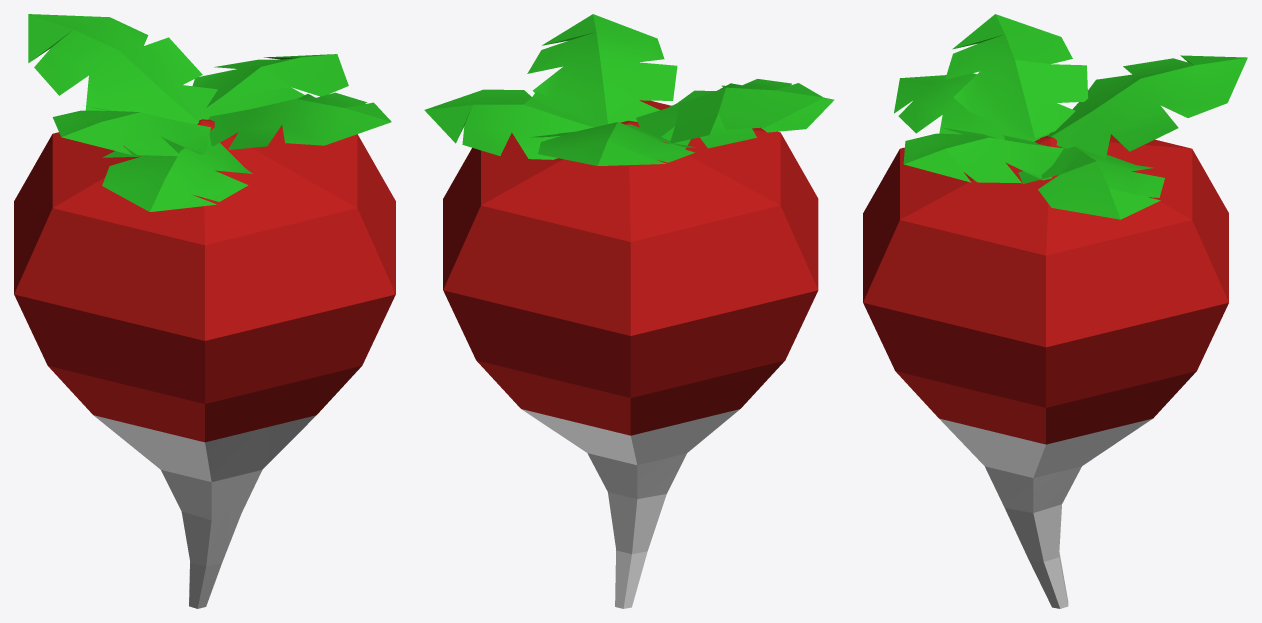
The model's file is Tumip.fbx.
3 renders of one model, left to right at view 1: azimuth 30°, elevation 25°; view 2: azimuth 150°, elevation 25°; view 3: azimuth 270°, elevation 25°, orthographic. The views are drawn at different scales.
Visible parts, largest first — view 1: Tumip; view 2: Tumip; view 3: Tumip.
Boxes of the visible parts, <box> form: Tumip: <box>14,14,395,608</box>; Tumip: <box>424,14,834,608</box>; Tumip: <box>863,14,1247,608</box>.
Size of the model in its own units: 209 by 281 by 191.
